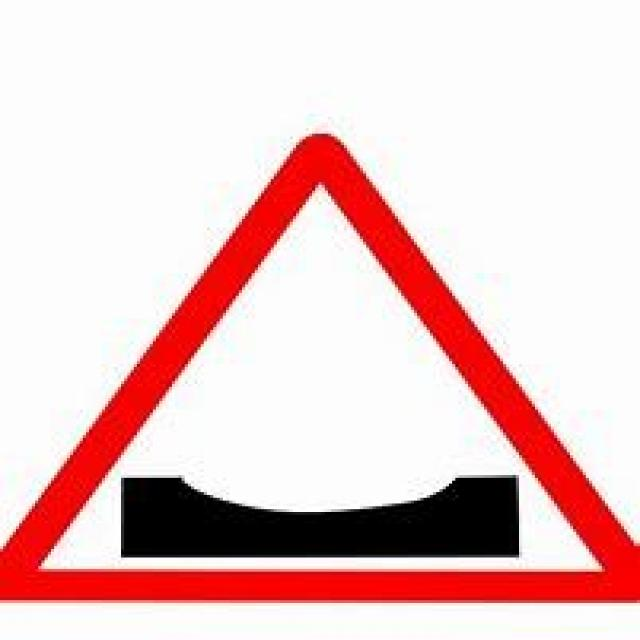DANGEROUS_DIP: (0, 131, 637, 600)
